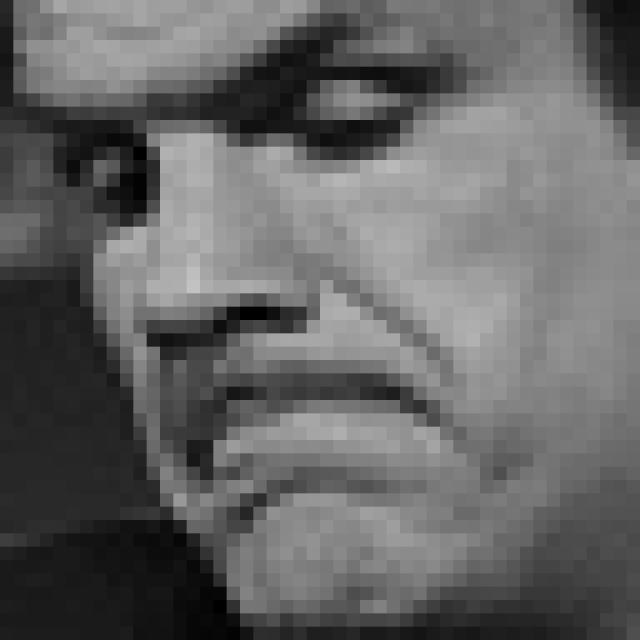sad: (18, 0, 546, 535)
